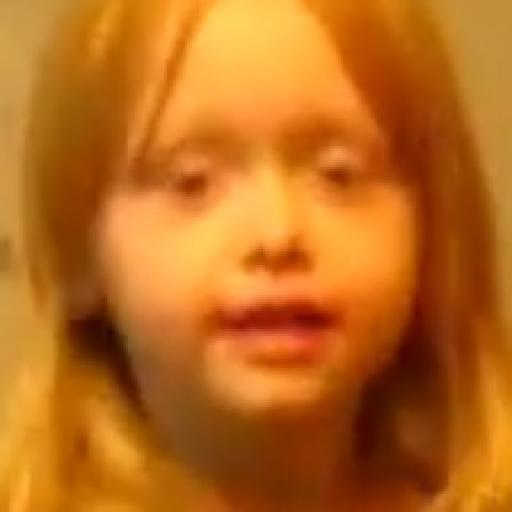Autism: (23, 7, 512, 466)
